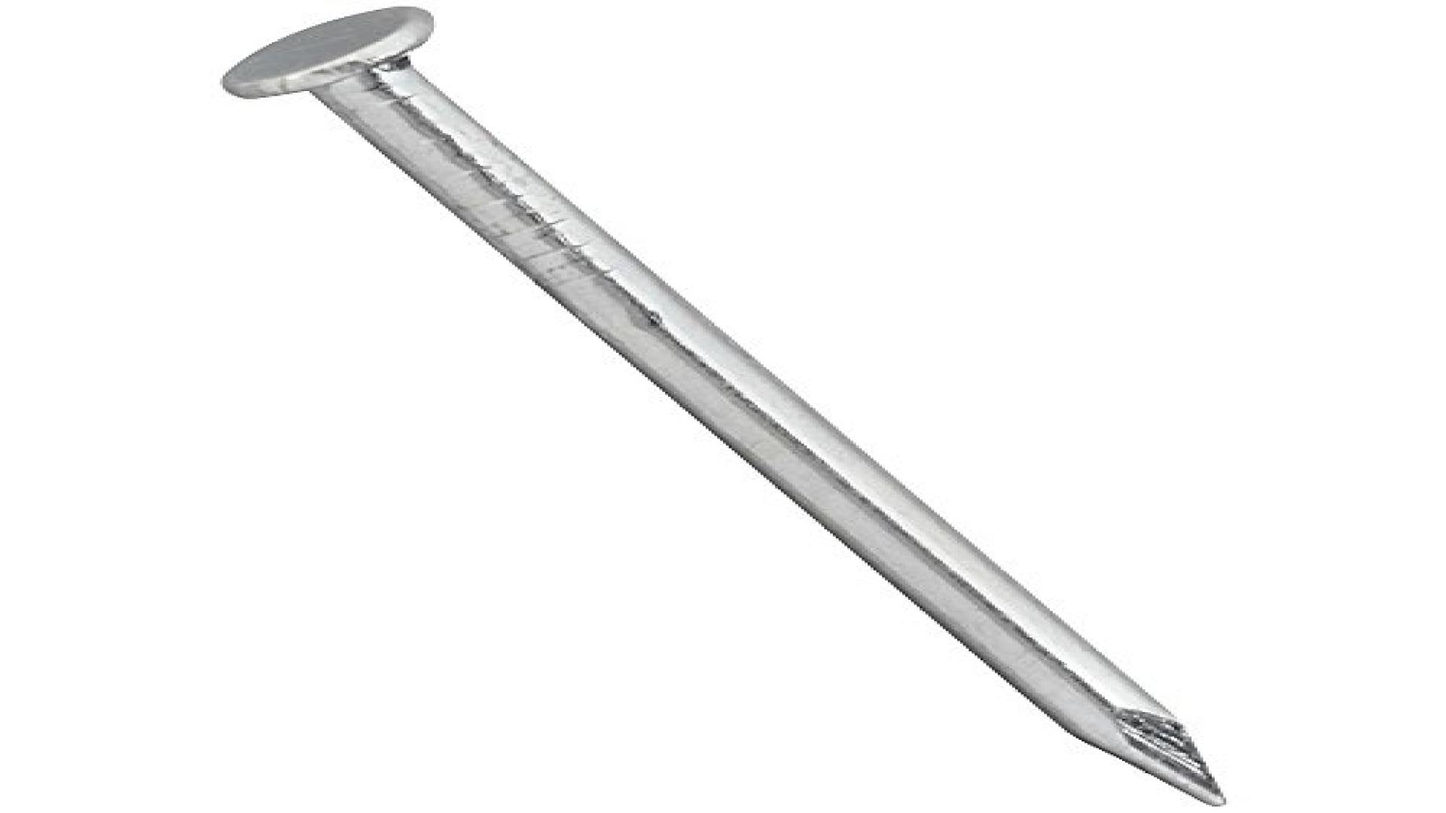nail: (172, 1, 1262, 810)
